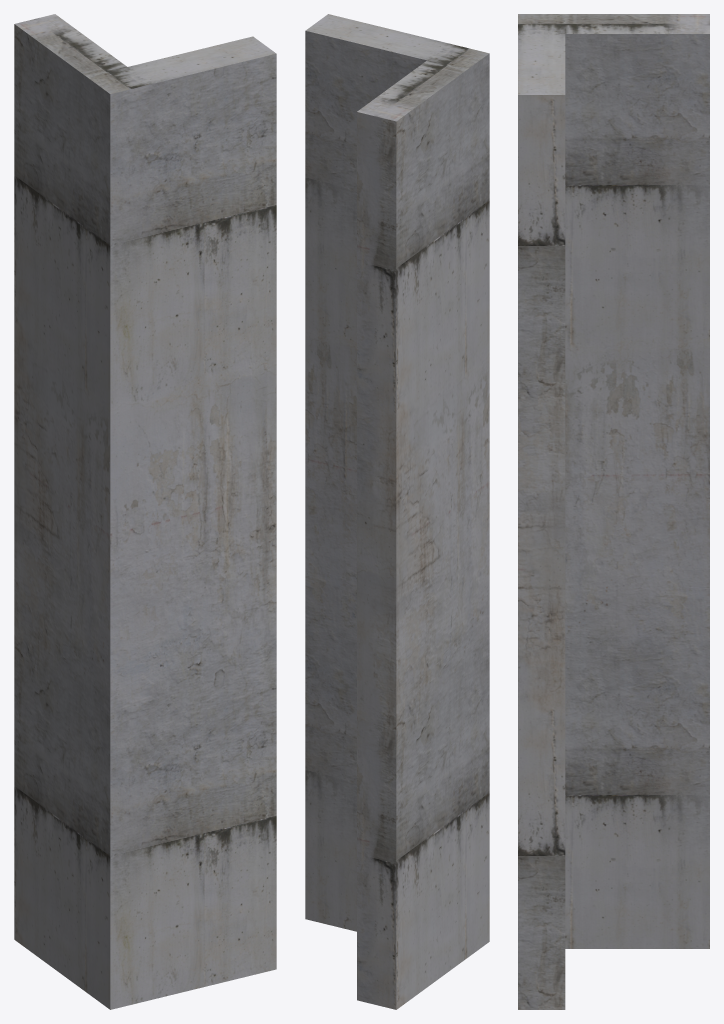
The model's file is SM_Wall_Corner_50_01.fbx.
3 renders of one model, left to right at view 1: azimuth 30°, elevation 25°; view 2: azimuth 150°, elevation 25°; view 3: azimuth 270°, elevation 25°, orthographic. The views are drawn at different scales.
Parts seen in each view (by area): view 1: SM_Wall_Corner_50_01; view 2: SM_Wall_Corner_50_01; view 3: SM_Wall_Corner_50_01.
Part boxes in pixels (x1,y1,x2,y2): SM_Wall_Corner_50_01: (14,14,276,1009); SM_Wall_Corner_50_01: (305,14,489,1009); SM_Wall_Corner_50_01: (518,14,709,1009).
Size of the model in its own units: 57 by 57 by 300.
